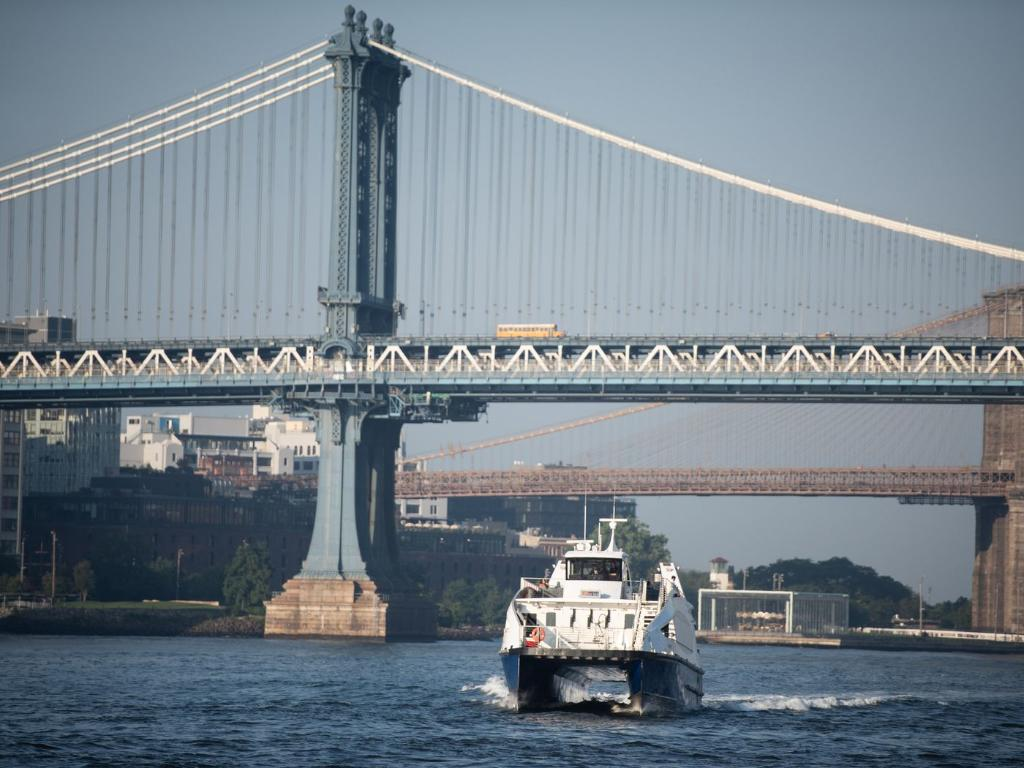PassengerShip: (464, 512, 724, 726)
